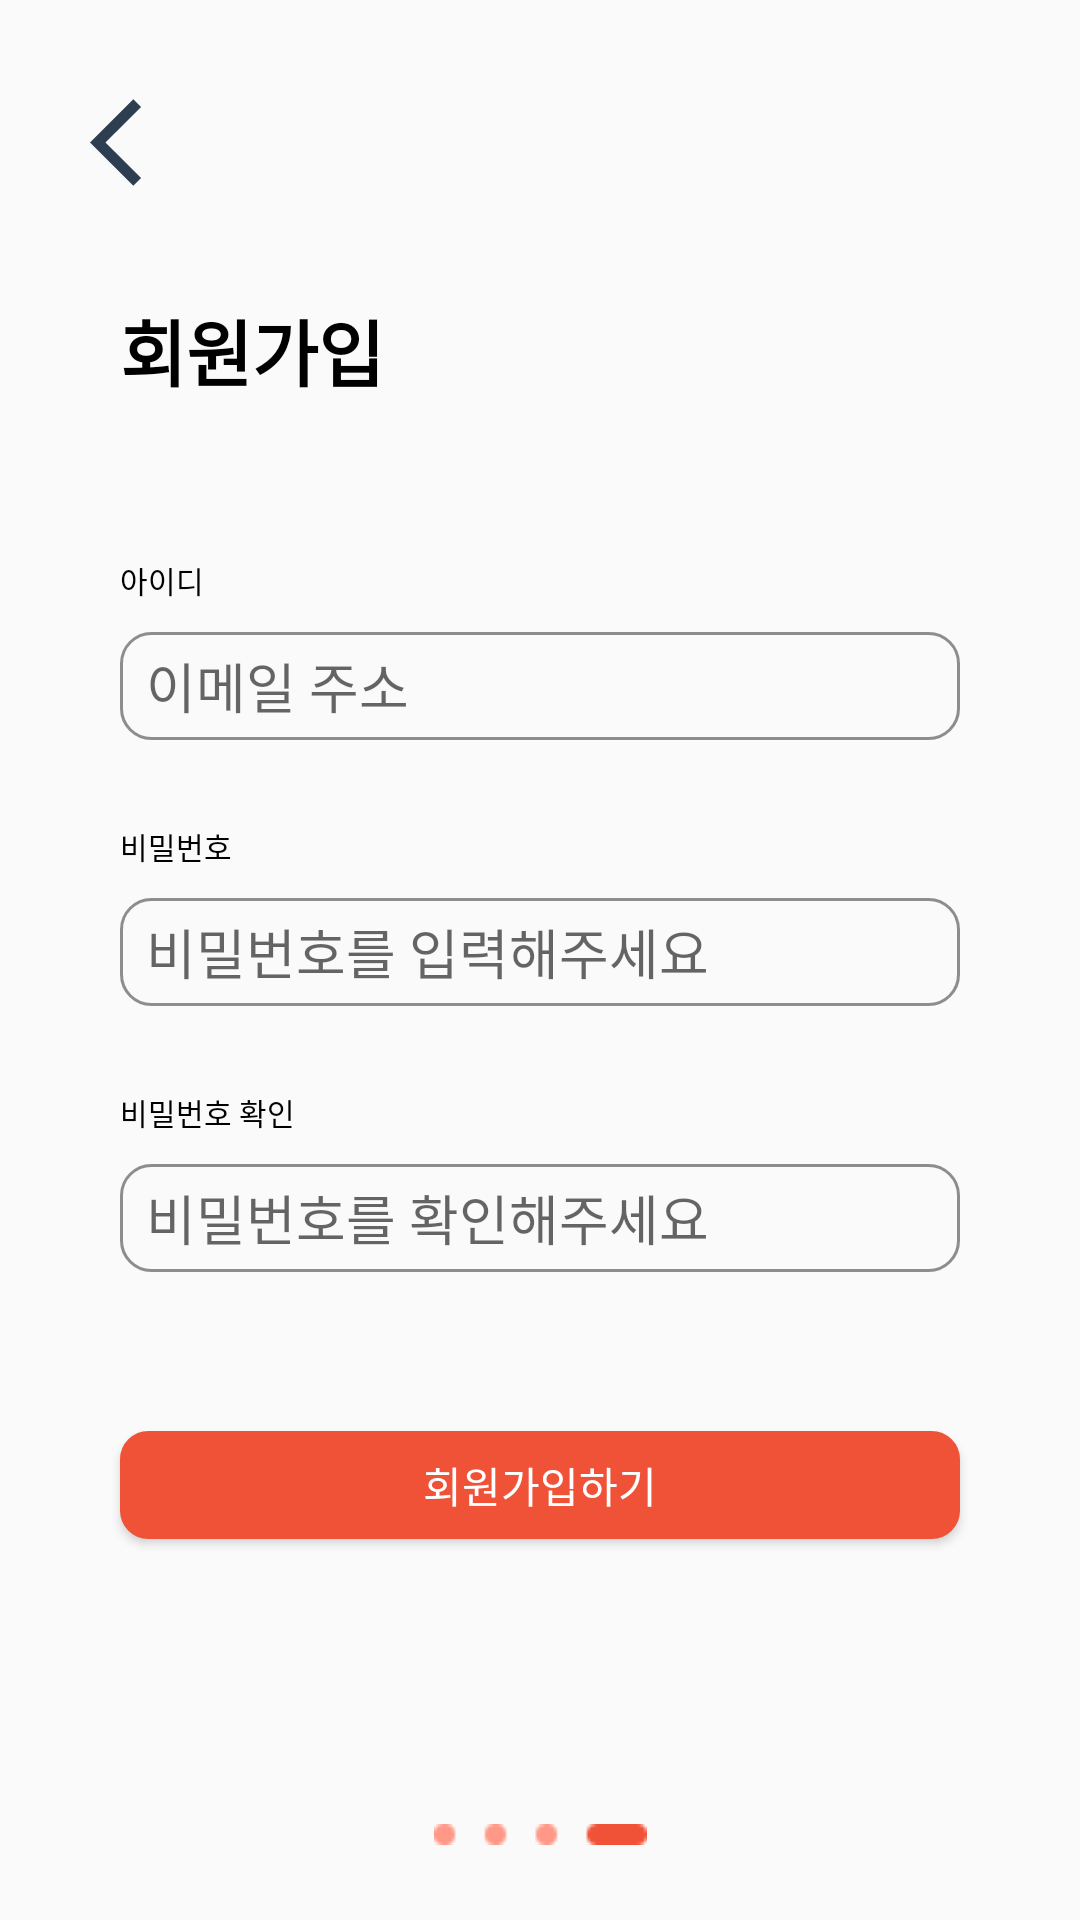

Named icons in this screenshot (1080 x 1920) and their bounding boxes, (x1=x1, y1=y1, x2=x2, y2=y2):
arrow back: (x1=90, y1=99, x2=141, y2=186)
